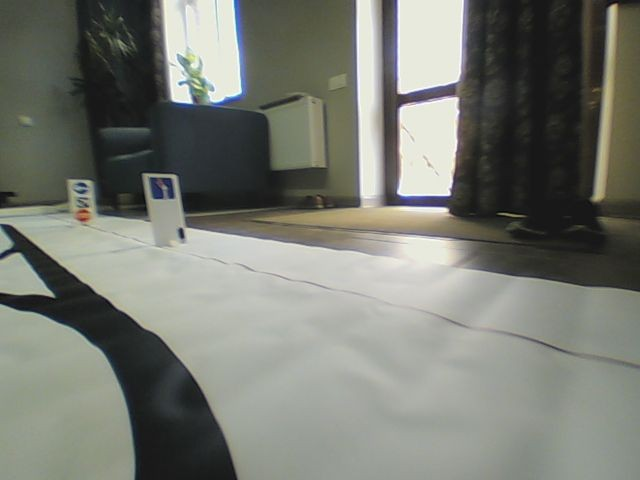priority_movement: (146, 175, 178, 200)
